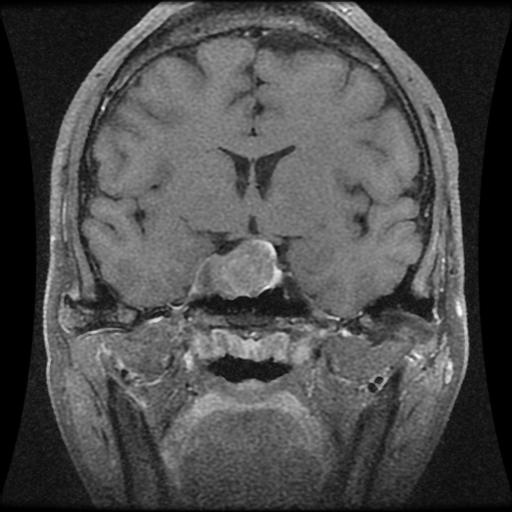Pituirity_tumour: (194, 238, 282, 299)
